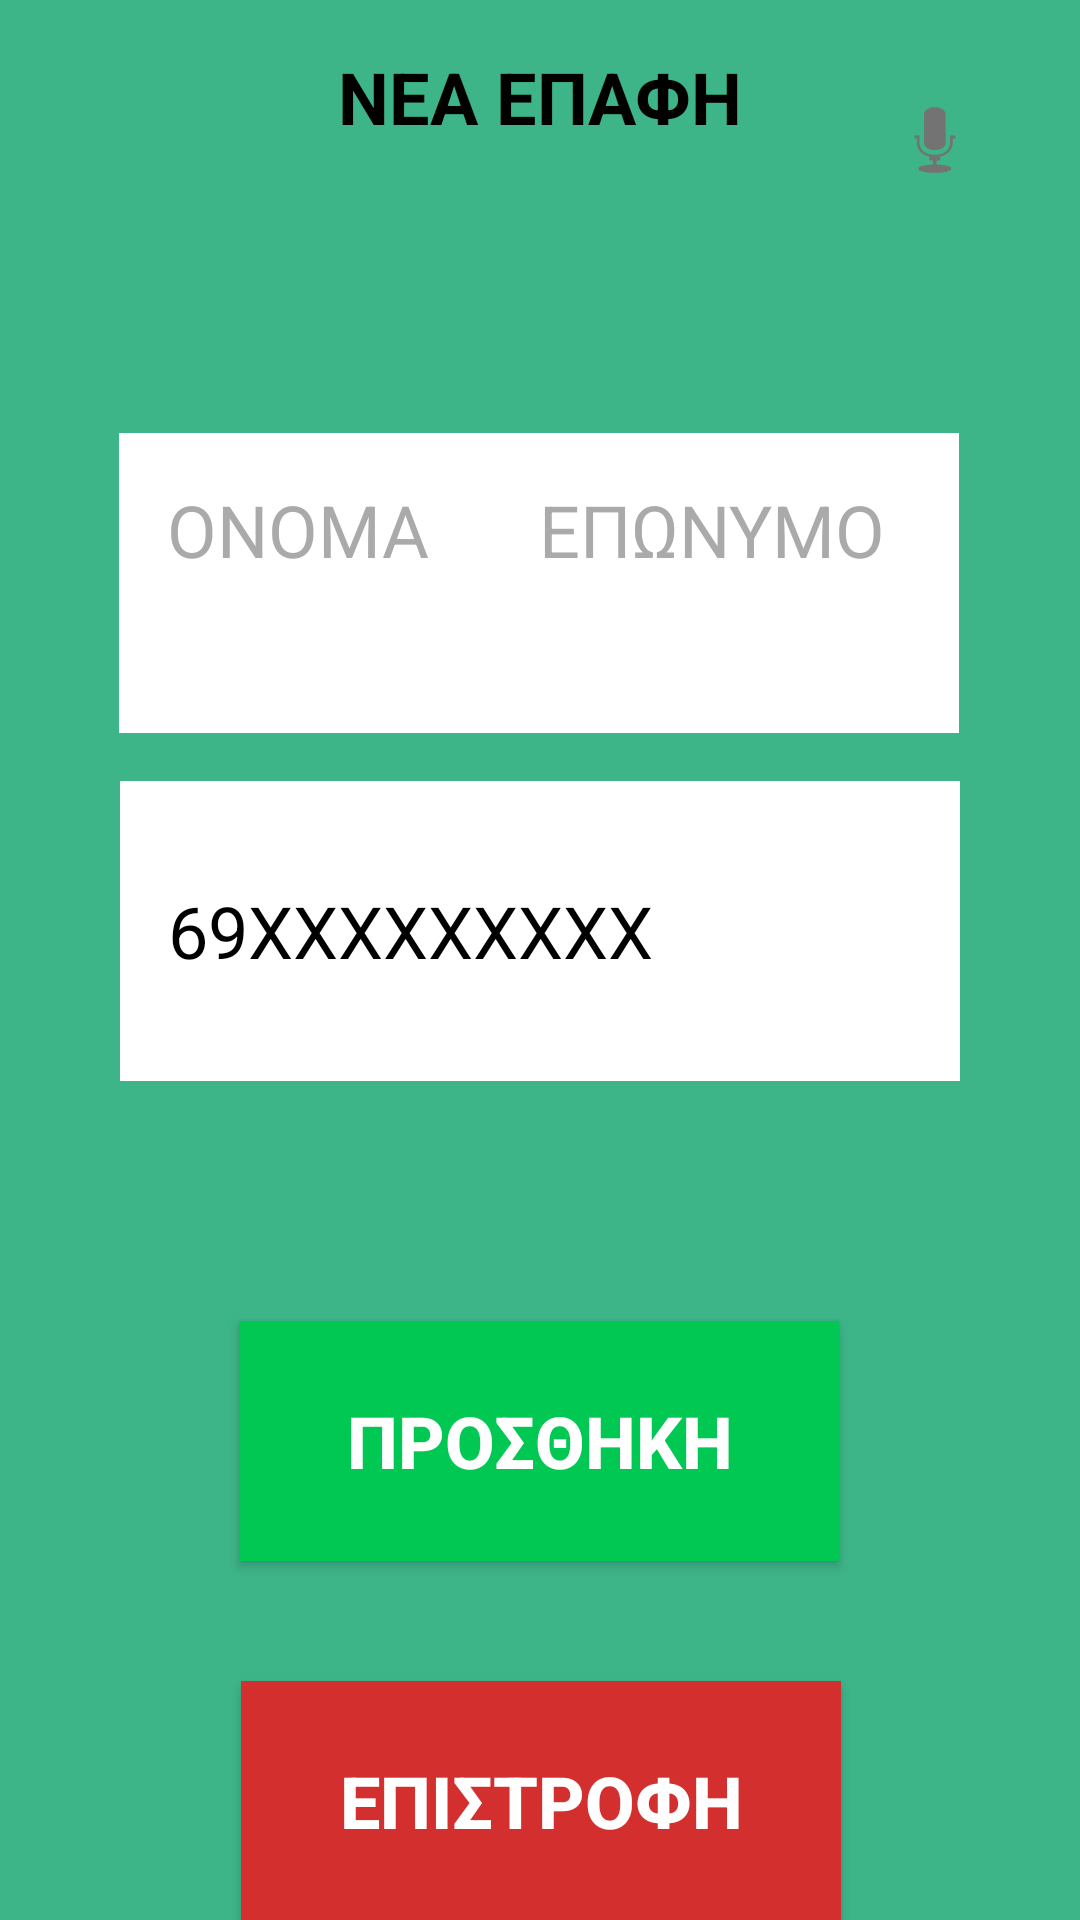

Named icons in this screenshot (1080px×1920px) and their bounding boxes, (x1, y1, x2, y2):
speak now: (914, 107, 955, 173)
